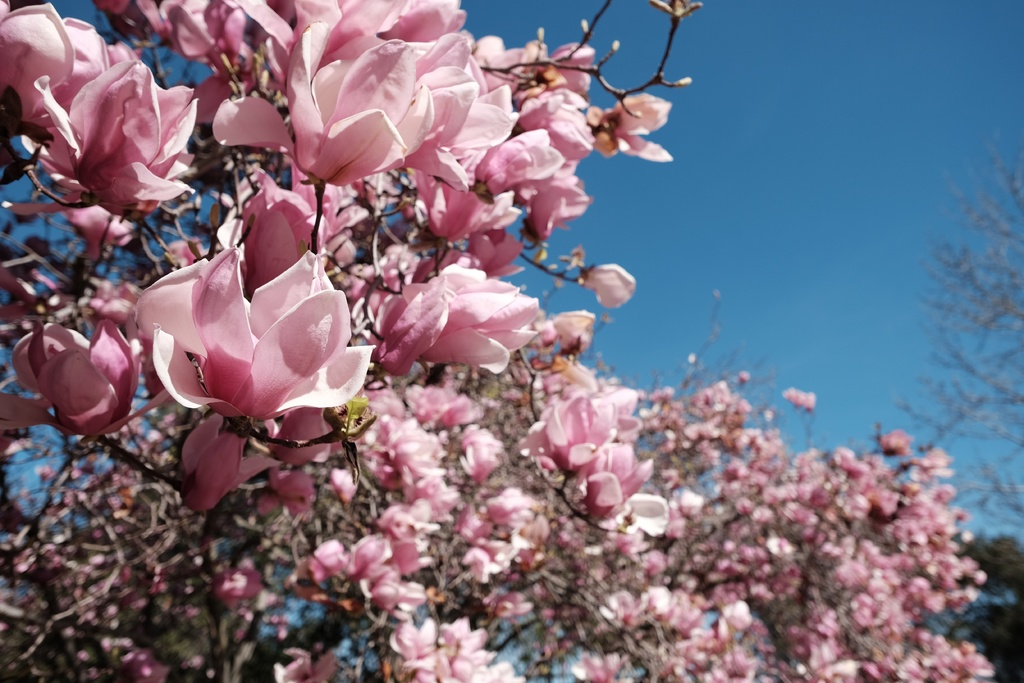Tree: (0, 0, 997, 683), (898, 145, 1024, 679)
